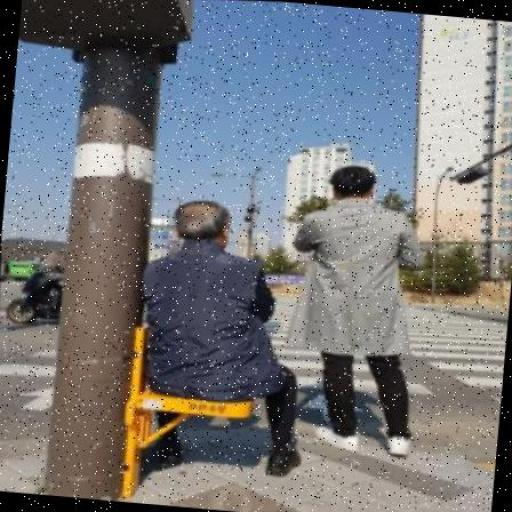person: (276, 157, 436, 461)
